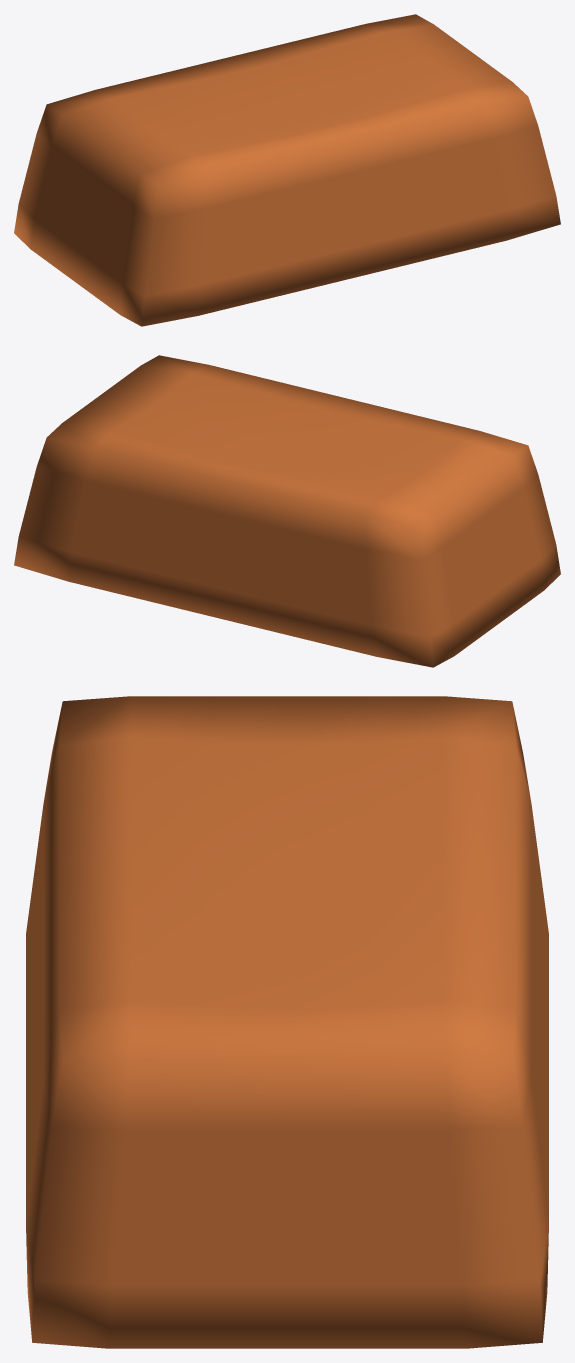
The model's file is ingot_copper_web.glb.
The picture shows the model from 3 angles, top to bottom: view 1: azimuth 30°, elevation 25°; view 2: azimuth 150°, elevation 25°; view 3: azimuth 270°, elevation 25°; orthographic projection. The views are drawn at different scales.
Visible parts, largest first — view 1: ingot_copper; view 2: ingot_copper; view 3: ingot_copper.
Boxes of the visible parts, <box> form: ingot_copper: <box>14,14,560,326</box>; ingot_copper: <box>14,355,560,667</box>; ingot_copper: <box>26,696,548,1348</box>.
Size of the model in its own units: 1 by 0.3172 by 0.5345.
